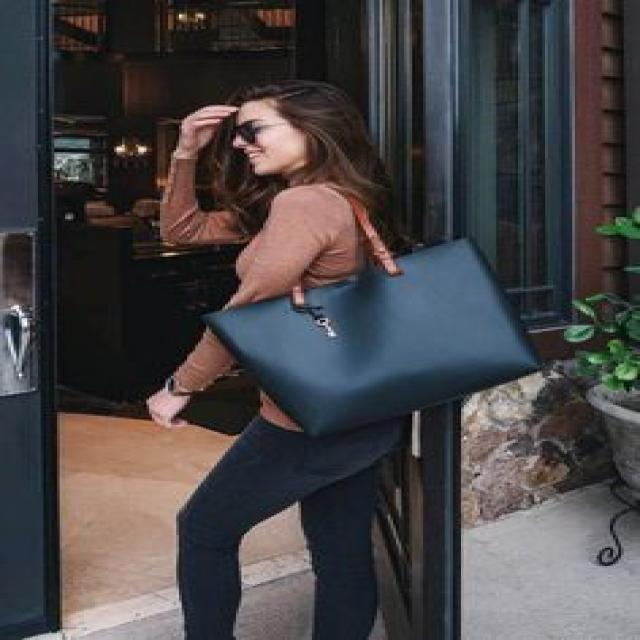handbag: (192, 234, 542, 446)
